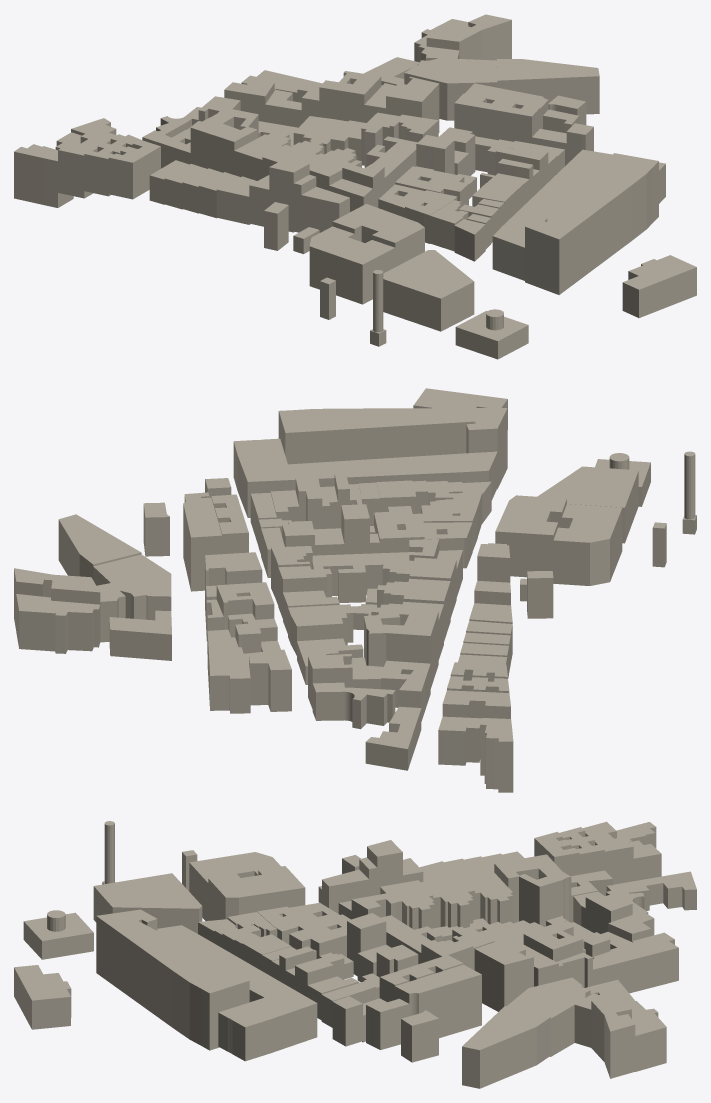
The model's file is senglea_59_31_mid.glb.
3 views of the same model, one above another, from view 1: azimuth 30°, elevation 25°; view 2: azimuth 150°, elevation 25°; view 3: azimuth 270°, elevation 25° (orthographic). The views are drawn at different scales.
Visible parts, largest first — view 1: geometry_0; view 2: geometry_0; view 3: geometry_0.
Part boxes in pixels (<box>): geometry_0: <box>14,14,696,359</box>; geometry_0: <box>14,388,696,792</box>; geometry_0: <box>14,821,696,1088</box>.
Size of the model in its own units: 153 by 27.55 by 176.
